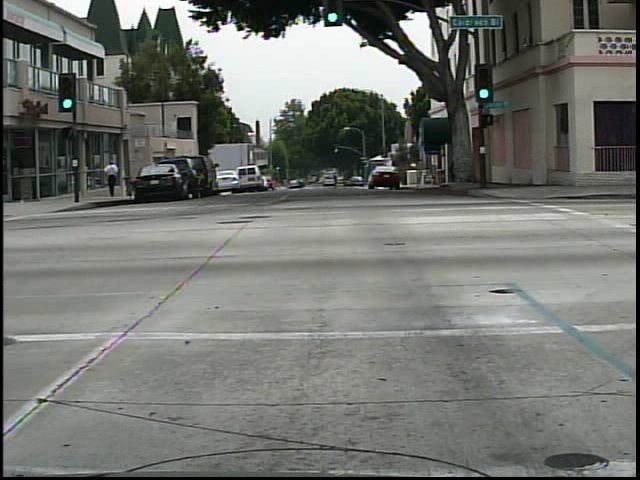person: (448, 145, 475, 197), (100, 154, 125, 201)
